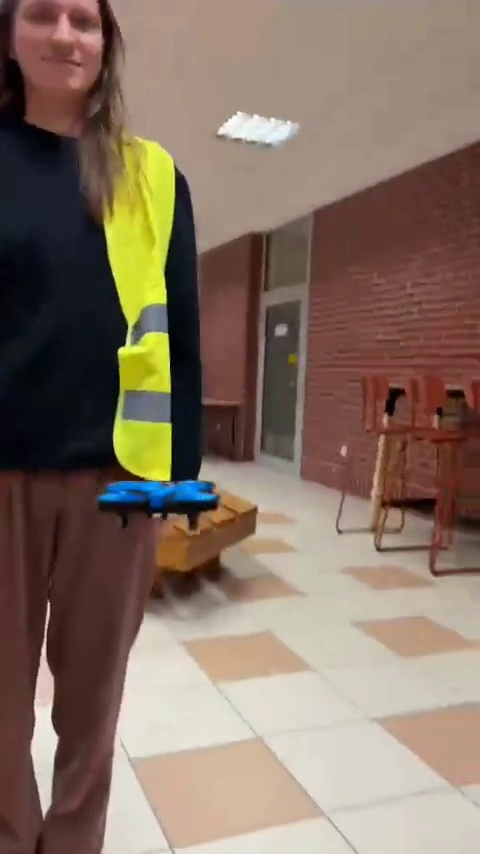drone: (95, 476, 213, 530)
vest: (3, 63, 207, 854)
